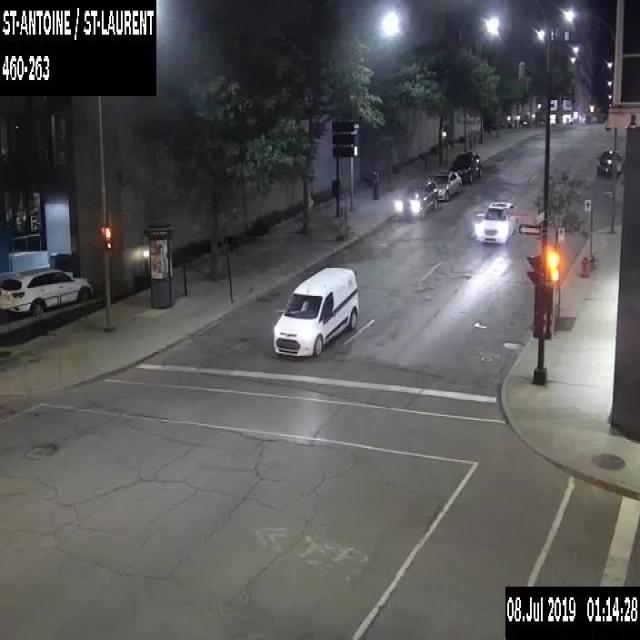vehicle: (272, 264, 360, 357), (0, 266, 94, 314), (474, 198, 516, 242), (396, 176, 437, 217), (426, 168, 461, 200), (449, 149, 482, 182), (596, 148, 622, 176)
